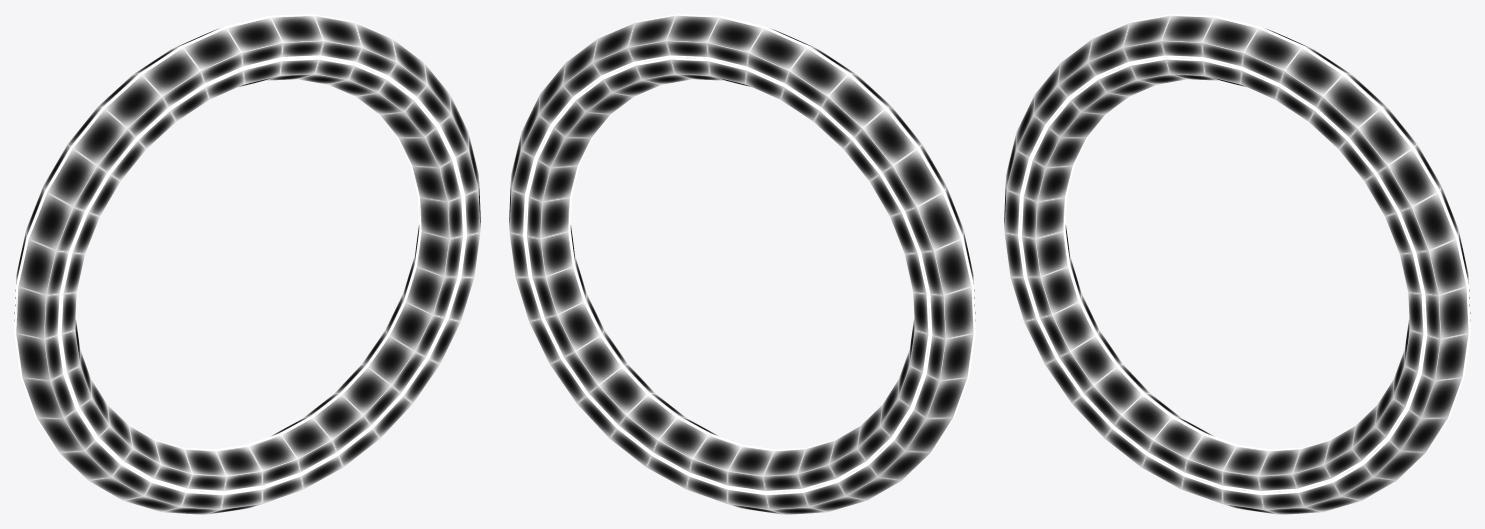
The model's file is UXR_Ring1.glb.
3 renders of one model, left to right at view 1: azimuth 30°, elevation 25°; view 2: azimuth 150°, elevation 25°; view 3: azimuth 330°, elevation 25°, orthographic.
Parts seen in each view (by area): view 1: torus; view 2: torus; view 3: torus.
Part boxes in pixels (x1,y1,x2,y2): torus: (14, 14, 480, 514); torus: (509, 14, 975, 514); torus: (1004, 14, 1470, 514).
Bounding box in the file's own units: 462 × 461 × 51.07.
2 materials, 2 textured.
